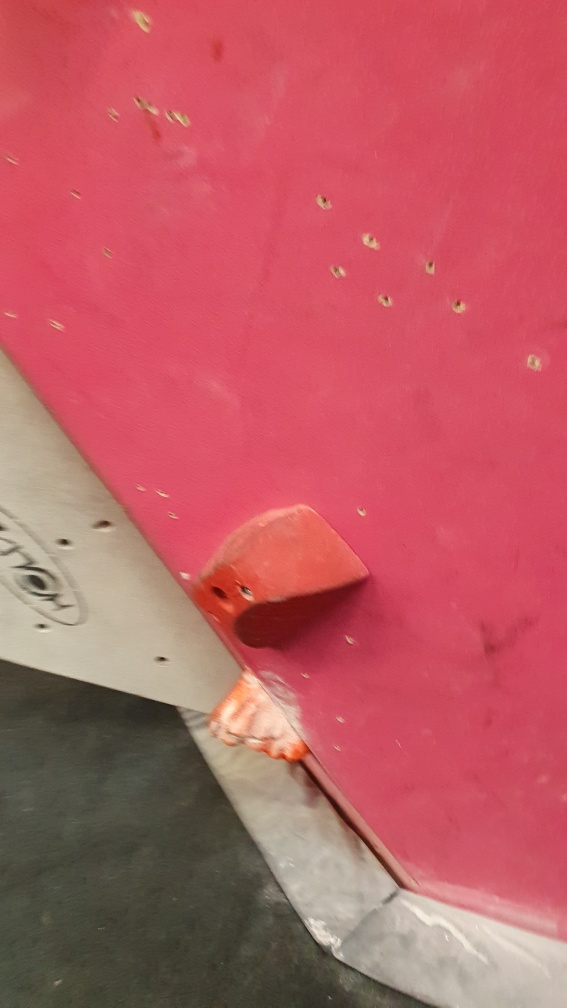Jug: (203, 666, 317, 772)
Pinch: (194, 501, 371, 654)
